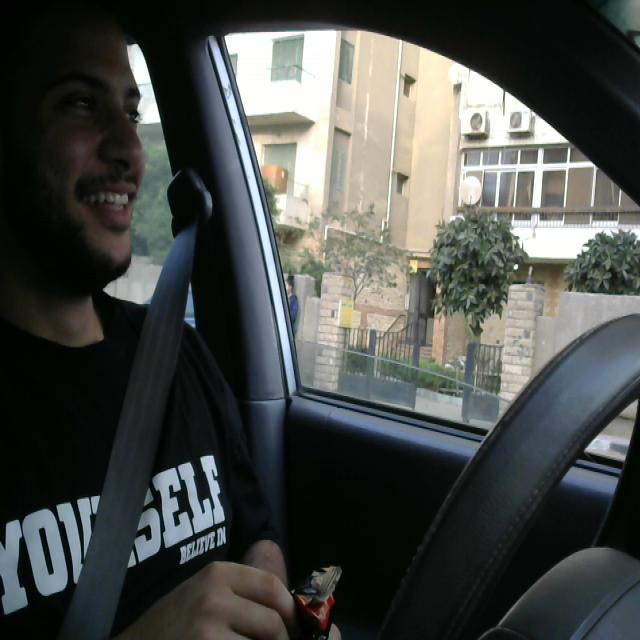eating: (267, 547, 357, 640)
